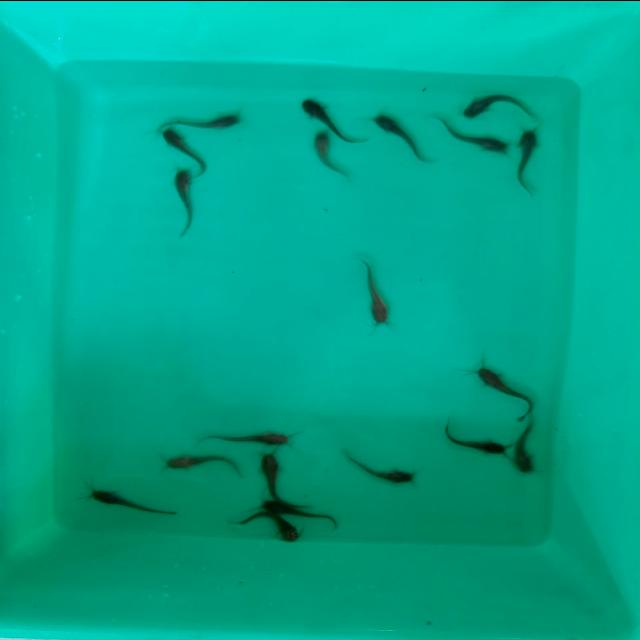lele: (374, 110, 435, 164), (475, 364, 535, 412), (86, 486, 176, 514), (340, 451, 414, 484), (298, 92, 358, 130), (442, 124, 508, 158), (443, 424, 505, 458), (208, 422, 292, 446), (306, 129, 344, 181), (231, 514, 301, 542), (512, 128, 542, 192), (155, 128, 201, 167), (162, 452, 240, 474), (257, 450, 291, 500), (460, 94, 534, 116), (156, 110, 240, 129), (363, 264, 389, 324), (170, 168, 194, 232), (512, 420, 538, 472), (262, 499, 336, 517)
